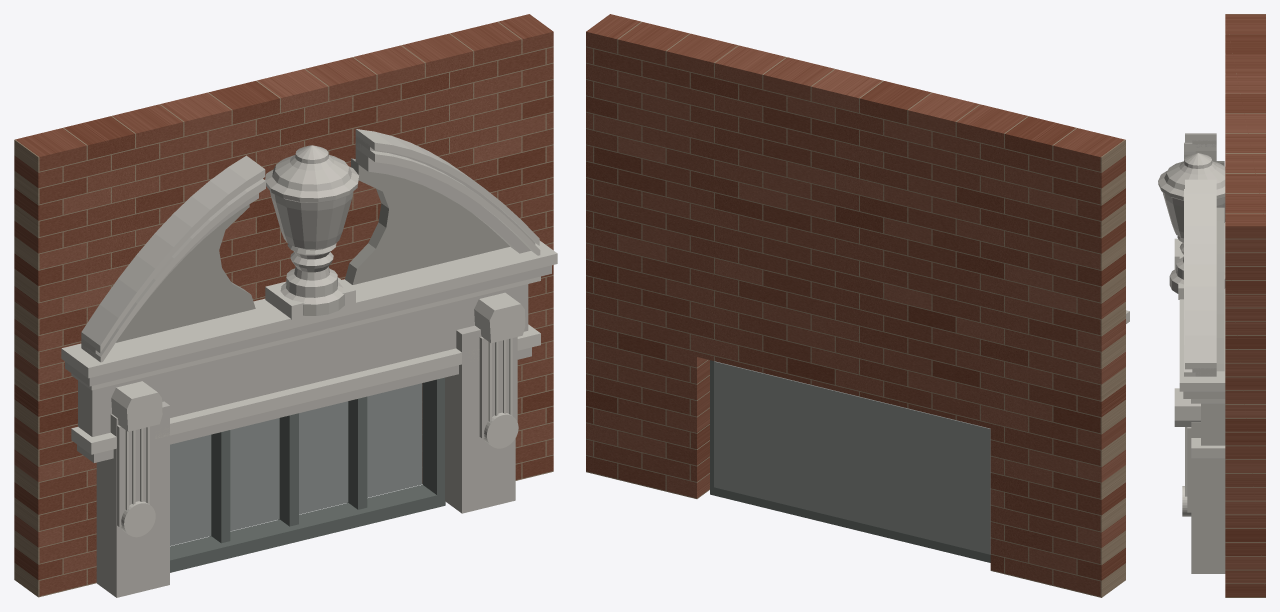
Rendered from wukang-376-broken-pediment-and-urn-far.glb.
The picture shows the model from 3 angles, left to right: view 1: azimuth 30°, elevation 25°; view 2: azimuth 150°, elevation 25°; view 3: azimuth 270°, elevation 25°; orthographic projection. The views are drawn at different scales.
Visible parts, largest first — view 1: 武康路376号住宅断弧门楣与石瓶; view 2: 武康路376号住宅断弧门楣与石瓶; view 3: 武康路376号住宅断弧门楣与石瓶.
Part boxes in pixels (x1=…): 武康路376号住宅断弧门楣与石瓶: x1=14, y1=14, x2=557, y2=597; 武康路376号住宅断弧门楣与石瓶: x1=586, y1=14, x2=1129, y2=597; 武康路376号住宅断弧门楣与石瓶: x1=1158, y1=14, x2=1265, y2=597.
Bounding box in the file's own units: 2.34 × 1.93 × 0.503.
Materials: 6 (1 with a texture image).
